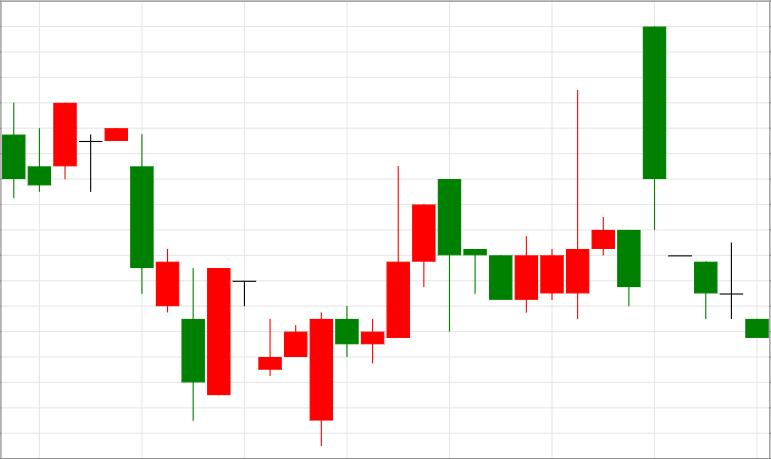bearish_engulfing_fall: (259, 166, 461, 446)
